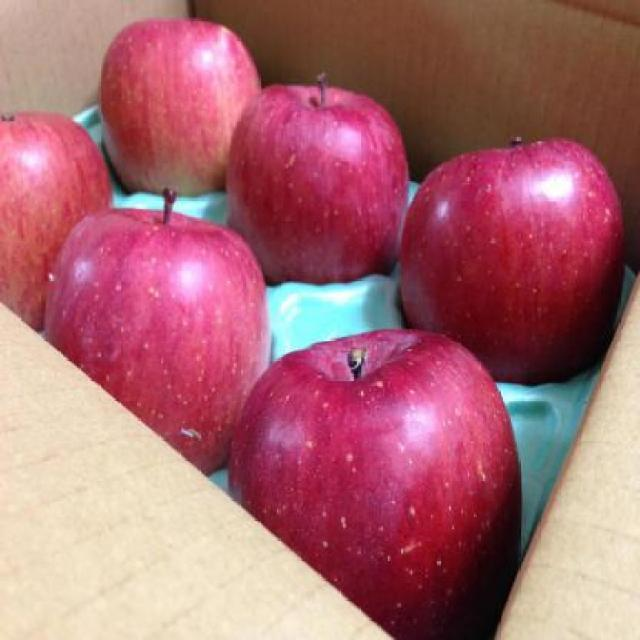Apple pie: (230, 323, 526, 639), (40, 188, 268, 472), (396, 135, 627, 387), (225, 72, 408, 283), (97, 15, 261, 196), (0, 106, 114, 337)
